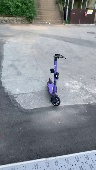beam: (45, 53, 66, 106)
